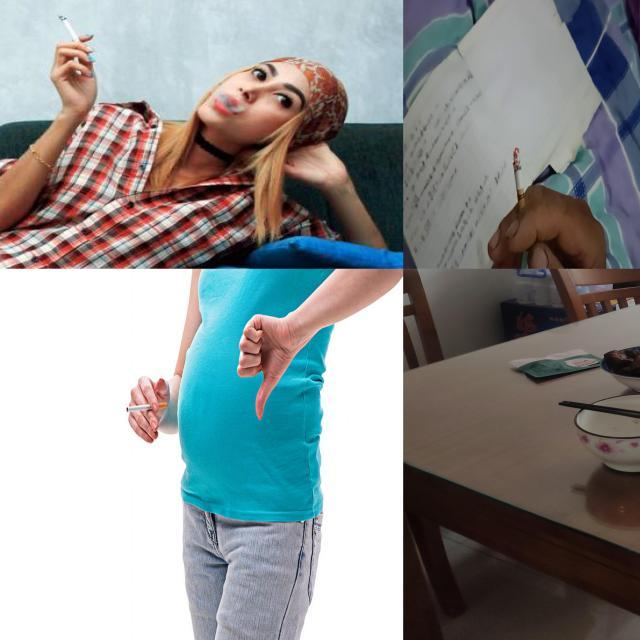cigarette: (57, 14, 86, 51), (513, 147, 526, 222), (126, 402, 168, 414)
